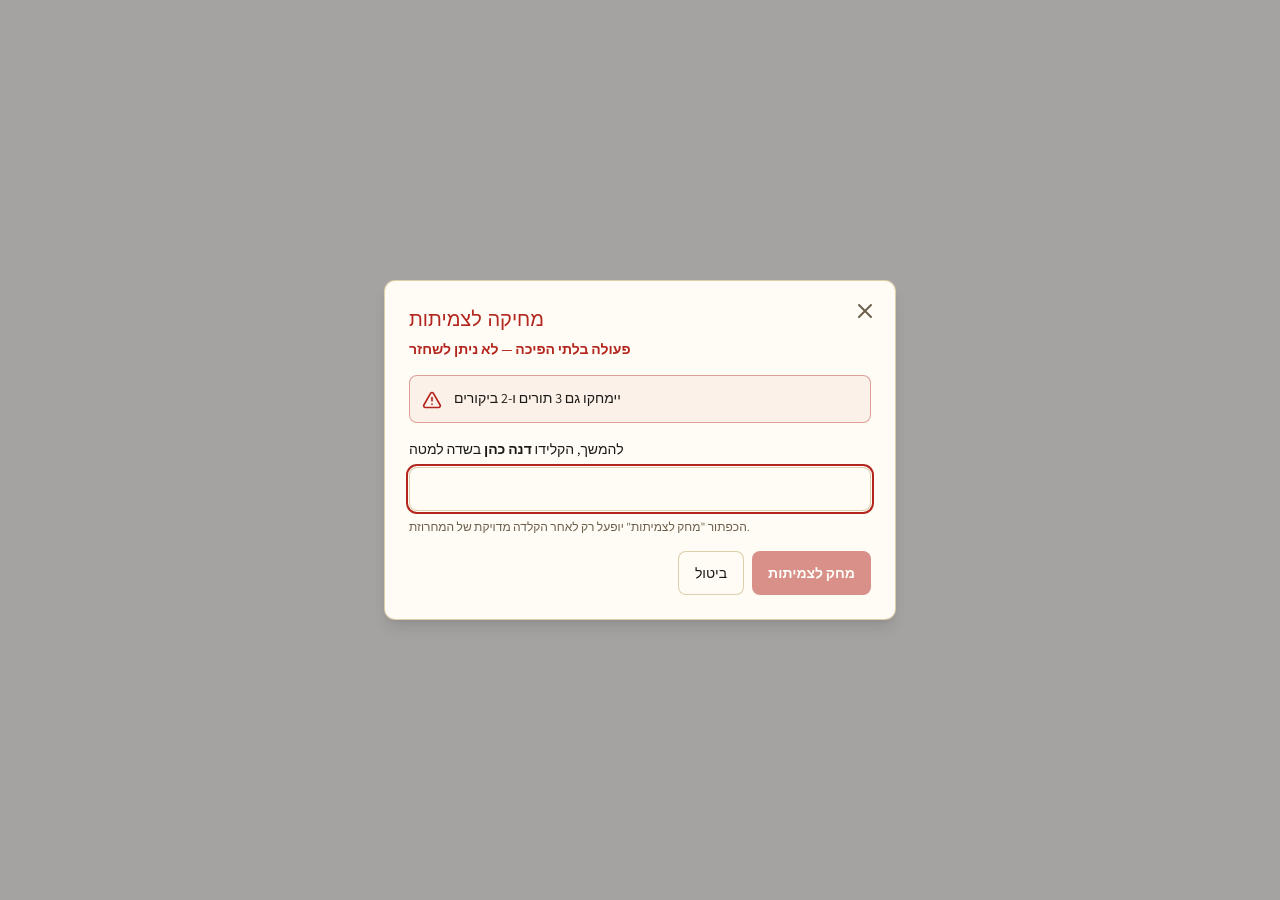
HardDeleteDialog — כפתור מחיקה ותנאי הקלדה › כפתור המחיקה נפתח כשההקלדה תואמת במדויק את confirmPhrase
The width and height of the screenshot is (1280, 900).
Type "דנה כהן" into the field at {"x": 640, "y": 489}, box [409,467,871,511]
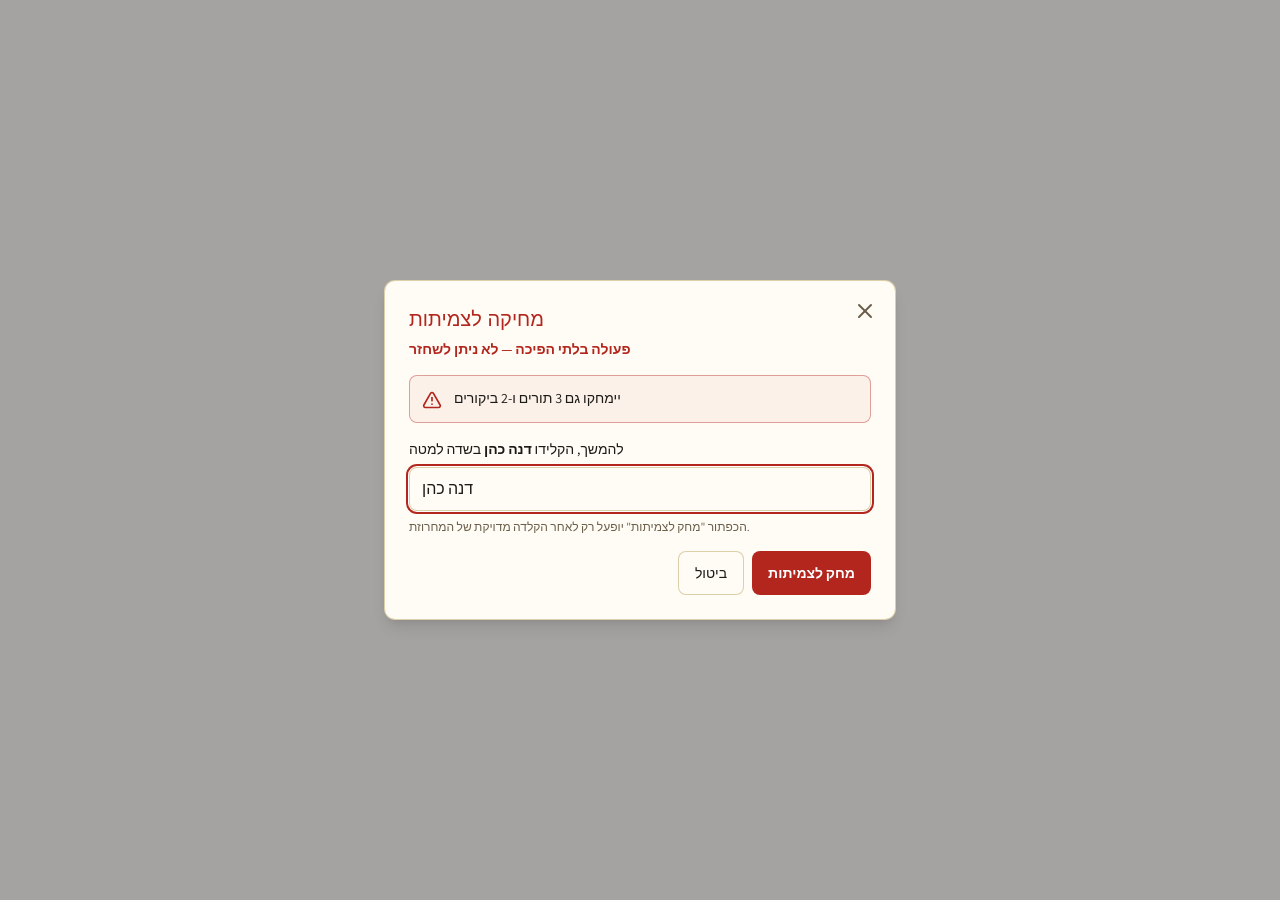
Result: the button "מחק לצמיתות" is enabled at [752,551,871,595]
